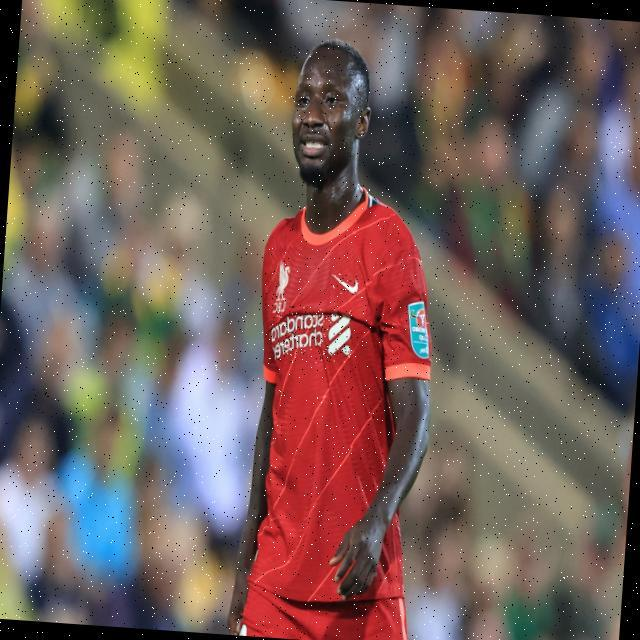Nike: (331, 273, 358, 294)
Standard Chartered: (268, 305, 353, 366)
